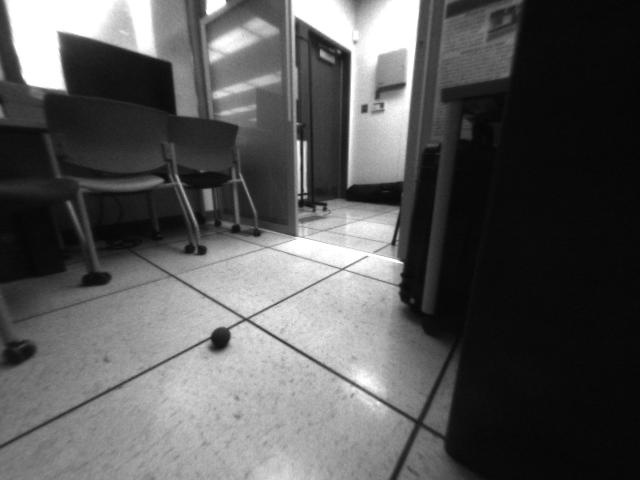dogtoy: (205, 322, 237, 354)
